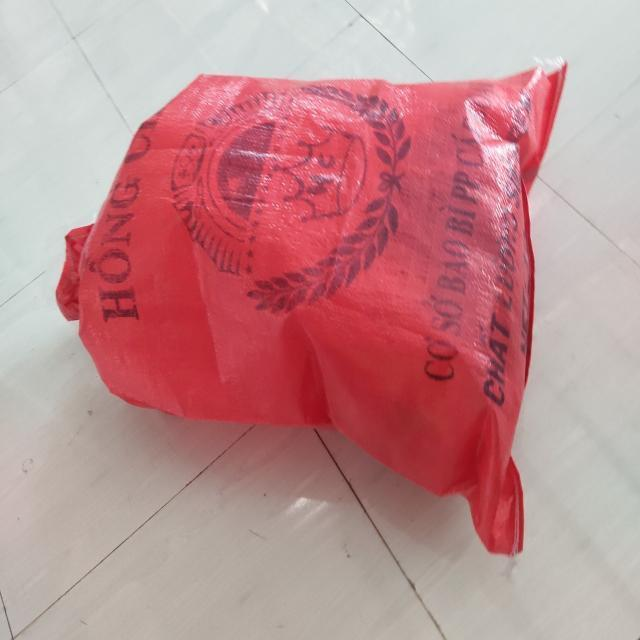gunny_bag: (56, 65, 567, 555)
